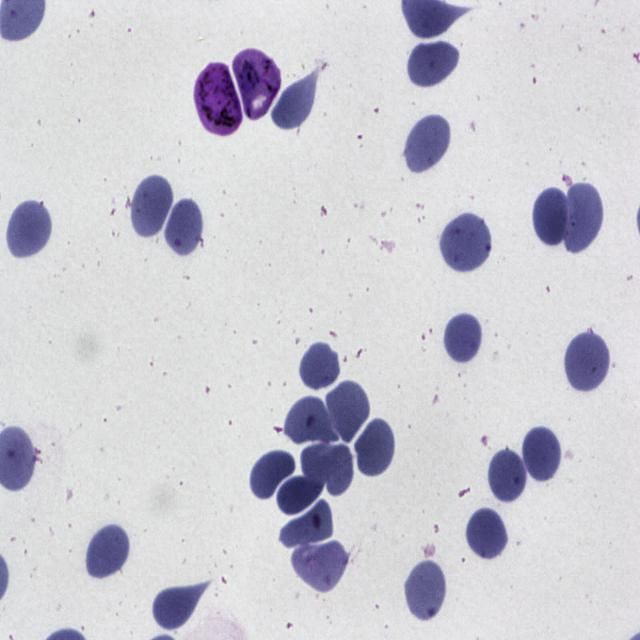gametocyte: (194, 60, 243, 140)
red blood cell: (438, 209, 492, 275), (291, 536, 350, 595), (560, 179, 604, 257), (563, 328, 612, 397), (128, 171, 175, 242), (402, 110, 452, 176), (4, 196, 54, 262), (301, 441, 356, 498), (403, 556, 448, 625), (272, 69, 319, 134), (406, 38, 462, 90), (354, 414, 397, 481), (84, 520, 131, 581), (162, 195, 205, 261), (150, 580, 203, 633), (278, 499, 334, 549), (324, 382, 371, 441), (284, 393, 334, 448), (249, 447, 297, 503), (486, 445, 530, 506), (520, 422, 563, 484), (464, 505, 509, 563), (531, 185, 572, 248), (442, 310, 484, 366), (299, 339, 341, 393), (276, 472, 324, 518)
trophozoite: (233, 48, 281, 121)
